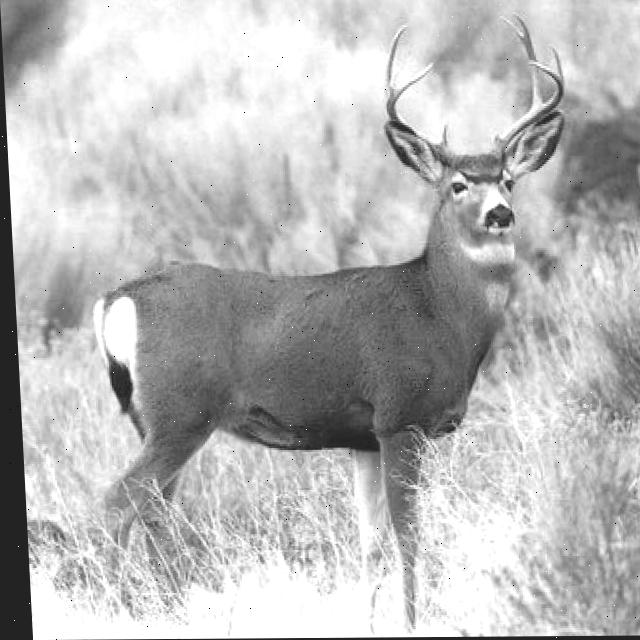Deer: (55, 27, 621, 584)
